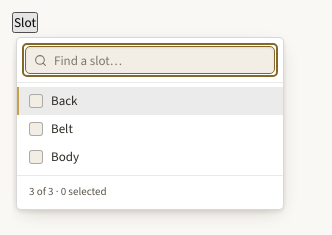
it: Combobox › filters without case sensitivity, wraps the highlight, and closes after a single pick
The width and height of the screenshot is (332, 235).
Expected: the list is shown, [17, 87, 283, 171]
Expected: the number of options is 3, [17, 87, 283, 115]; [29, 120, 73, 137]; [29, 148, 79, 165]
In the dropdown labelled "slot": {"x": 160, "y": 60} [54, 47, 266, 73], type "B"
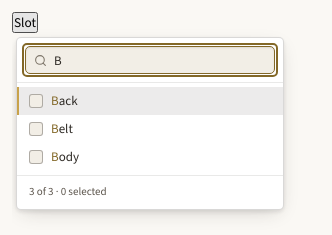
Expected: the number of options is 3, [17, 87, 283, 115]; [29, 120, 73, 137]; [29, 148, 79, 165]
Press Arrowup Enter
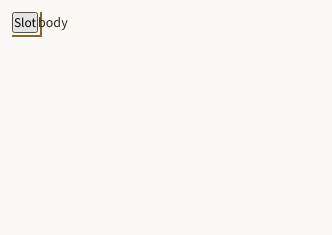
Expected: the text "body" is shown, [38, 13, 68, 32]
Now the dropdown is gone
